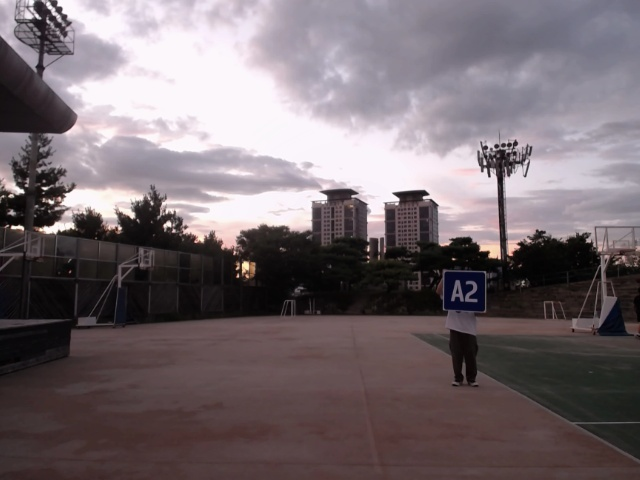delivery_a2: (443, 270, 487, 312)
